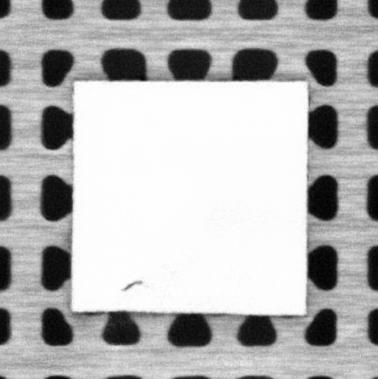DIE_INK: (121, 279, 144, 293)
